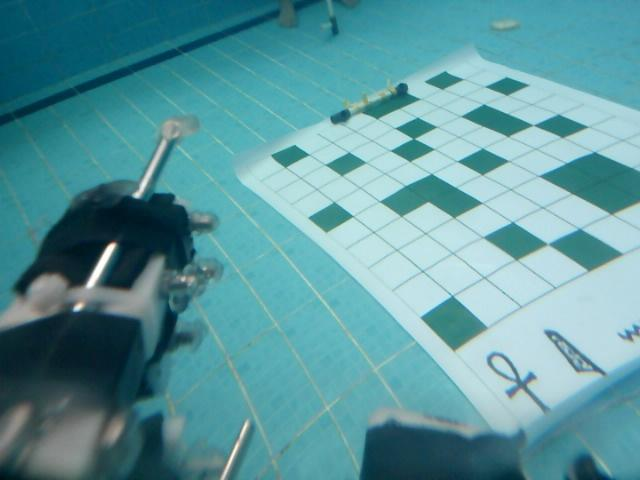Ankh: (486, 352, 551, 421)
Reed: (542, 330, 611, 384)
